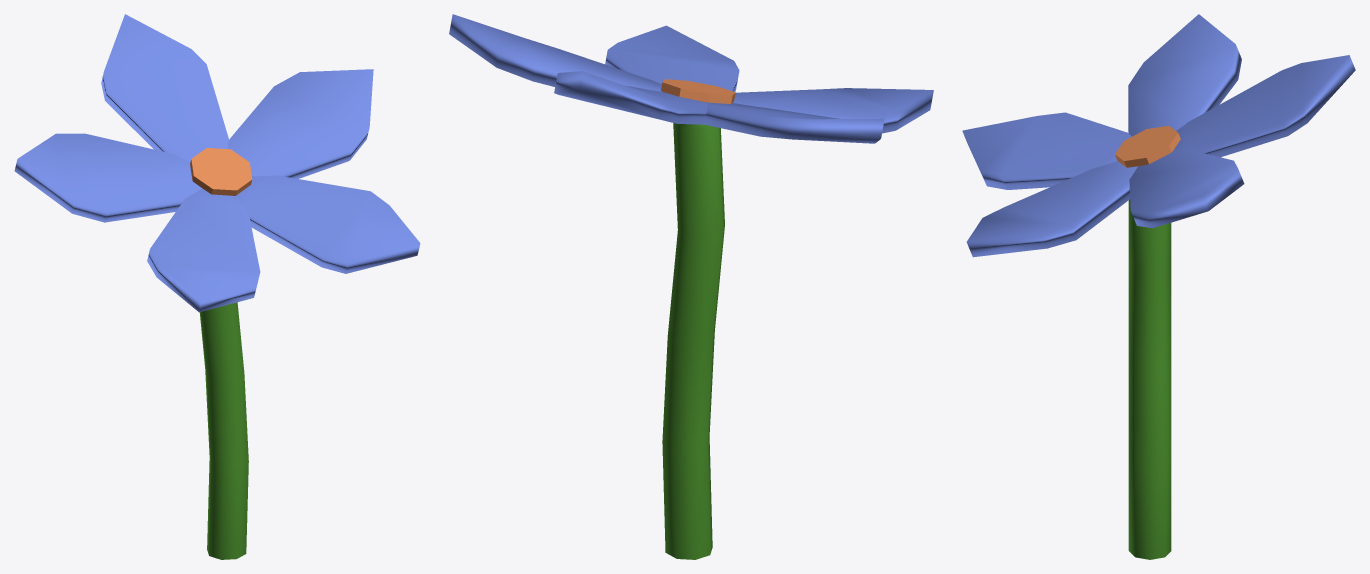
The model's file is Flower_Blue_4.fbx.
The picture shows the model from 3 angles, left to right: view 1: azimuth 30°, elevation 25°; view 2: azimuth 150°, elevation 25°; view 3: azimuth 270°, elevation 25°; orthographic projection. The views are drawn at different scales.
Visible parts, largest first — view 1: Cube.073, Cylinder.601, Cylinder.599; view 2: Cube.073, Cylinder.601, Cylinder.599; view 3: Cube.073, Cylinder.601, Cylinder.599.
Boxes of the visible parts, <box> form: Cube.073: <box>14,14,420,312</box>; Cylinder.601: <box>199,302,248,559</box>; Cylinder.599: <box>190,148,252,195</box>; Cube.073: <box>449,14,933,143</box>; Cylinder.601: <box>662,123,724,559</box>; Cylinder.599: <box>661,79,735,103</box>; Cube.073: <box>962,14,1355,257</box>; Cylinder.601: <box>1128,199,1171,559</box>; Cylinder.599: <box>1115,125,1180,167</box>.
Size of the model in its own units: 71.56 by 89.76 by 64.99.
